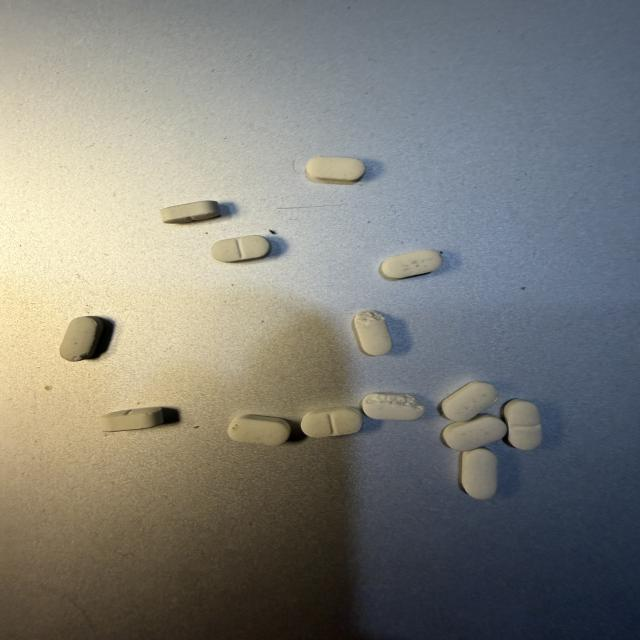pill: (443, 415, 506, 451), (441, 381, 497, 421), (228, 414, 290, 446), (60, 316, 103, 361), (504, 399, 542, 449), (380, 249, 442, 279), (301, 407, 362, 437), (461, 449, 497, 499), (353, 311, 391, 356), (305, 156, 365, 184), (362, 393, 424, 420), (100, 407, 164, 431), (212, 236, 270, 262), (161, 201, 220, 223)
